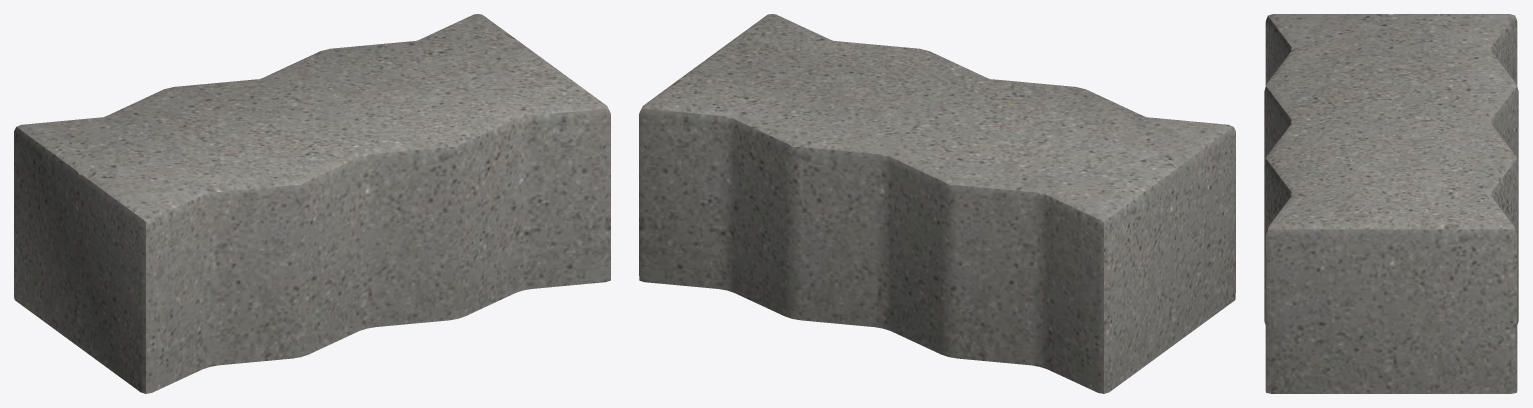
File: PAV-BLQ-001.glb
3 views of the same model, side by side, from view 1: azimuth 30°, elevation 25°; view 2: azimuth 150°, elevation 25°; view 3: azimuth 270°, elevation 25° (orthographic). The views are drawn at different scales.
Parts seen in each view (by area): view 1: PAV-BLQ-001_peca; view 2: PAV-BLQ-001_peca; view 3: PAV-BLQ-001_peca.
Boxes of the visible parts, box(x1,y1,x2,y2) form: PAV-BLQ-001_peca: box(14, 14, 610, 393); PAV-BLQ-001_peca: box(639, 14, 1235, 393); PAV-BLQ-001_peca: box(1264, 14, 1518, 393).
Size of the model in its own units: 0.225 by 0.08 by 0.1111.
Materials: 1 (1 with a texture image).
